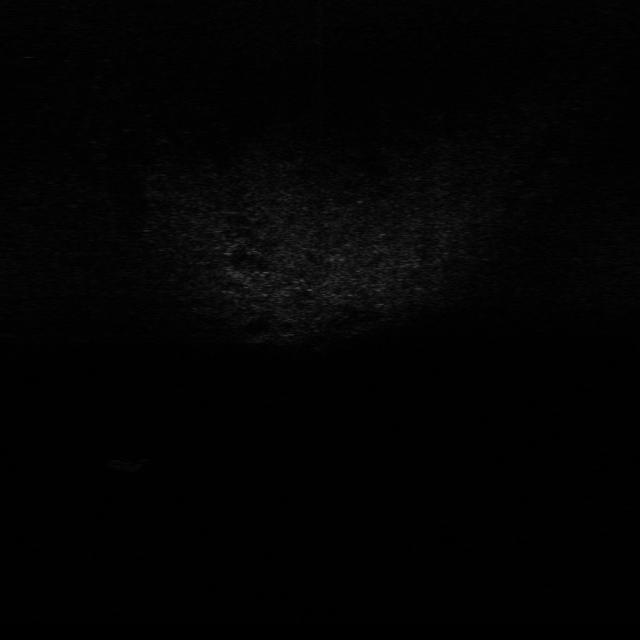cube: (109, 442, 152, 474)
